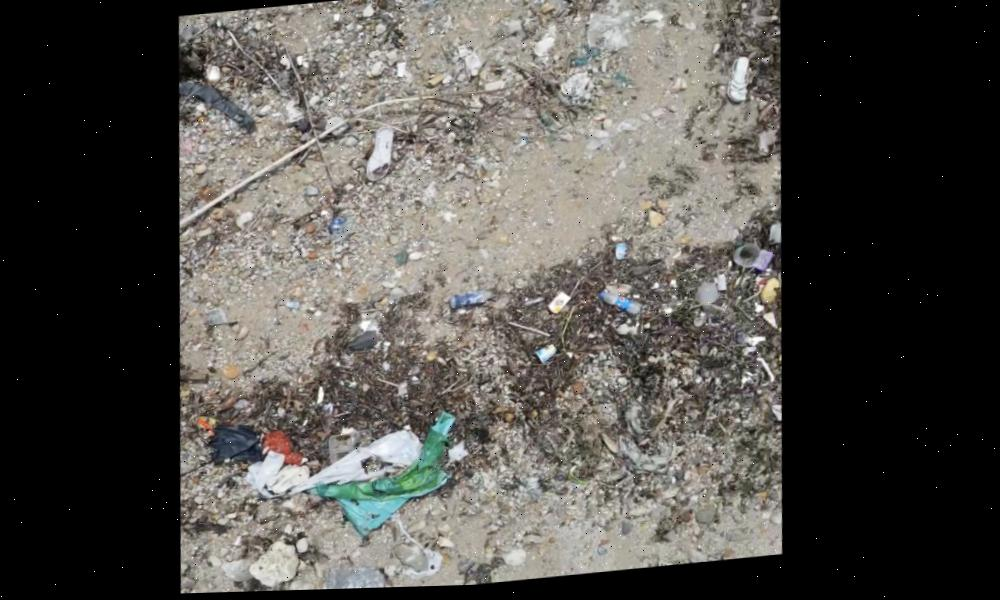carton: (748, 251, 779, 279)
plastic bag: (317, 413, 470, 541), (244, 429, 432, 503), (308, 556, 421, 592), (211, 424, 274, 480)
plastic bottle: (596, 285, 652, 326), (452, 285, 510, 316)
plastic container: (692, 279, 736, 313), (730, 241, 769, 271), (769, 224, 786, 249)
